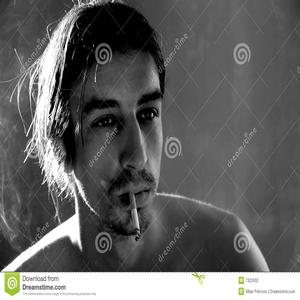cigarette: (130, 192, 142, 243)
